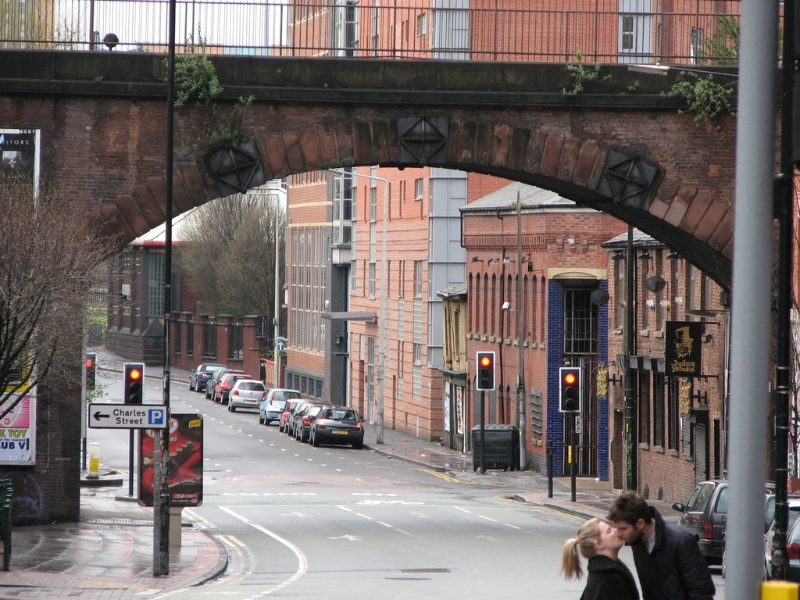left_turn: (91, 409, 113, 423)
parking: (147, 409, 165, 425)
yellow_light: (562, 369, 580, 387), (476, 353, 495, 367), (127, 365, 143, 381)
